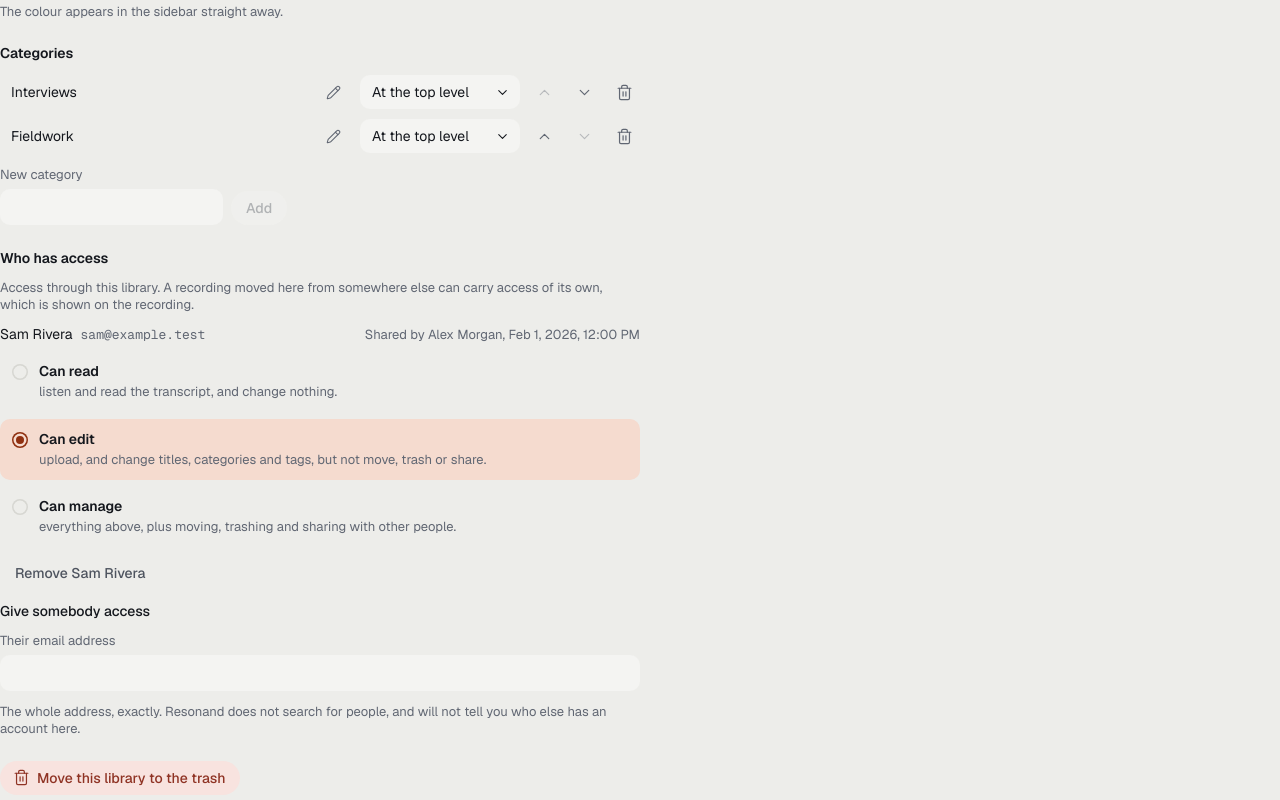
Test: the sharing panel › says what the person loses before revoking, in numbers
The image size is (1280, 800).
(page scrolled)
Click the button "Remove Sam Rivera".
click(80, 573)  # box [0,556,160,590]
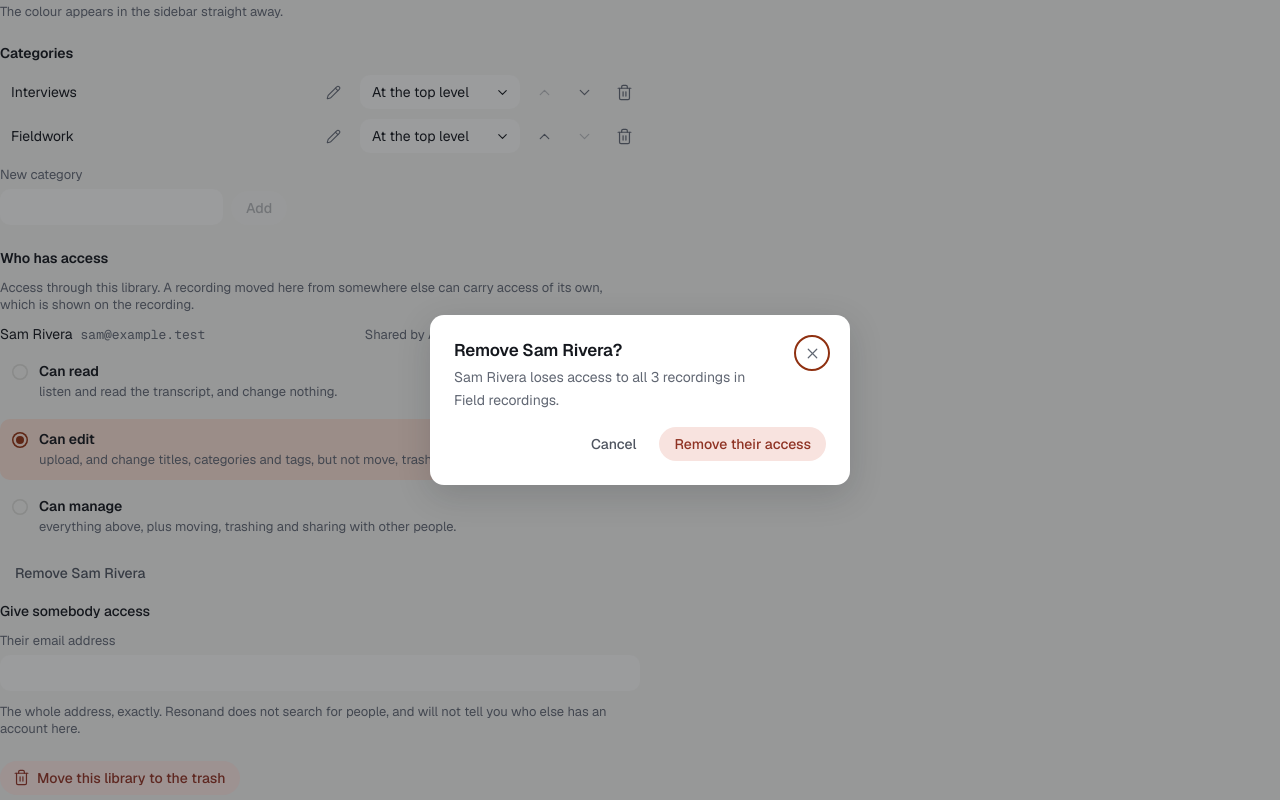
expect the text "loses access to all 3 recordings in Field recordings" is shown: met, box [454,368,746,408]
